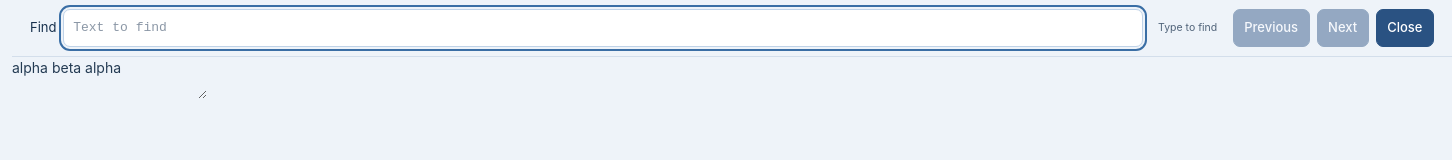
Test: typing updates counts without moving focus, and no matches disable navigation
Type "beta" into the search field labelled "Find" at (603, 28), box x1=64 y1=9 x2=1143 y2=47
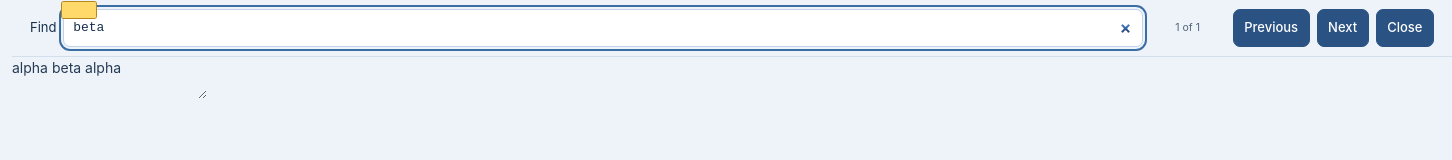
Expected: the message "1 of 1" is shown, x1=1175 y1=21 x2=1200 y2=34
Expected: the text "beta" is shown, x1=62 y1=2 x2=96 y2=18
Replace the text in the search field labelled "Find" with "missing" at (603, 28), box x1=64 y1=9 x2=1143 y2=47
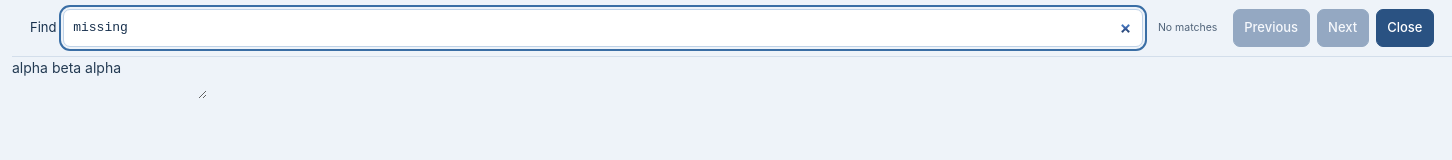
Expected: the message "No matches" is shown, x1=1158 y1=21 x2=1217 y2=34
Clear the search field labelled "Find" at (603, 28), box x1=64 y1=9 x2=1143 y2=47
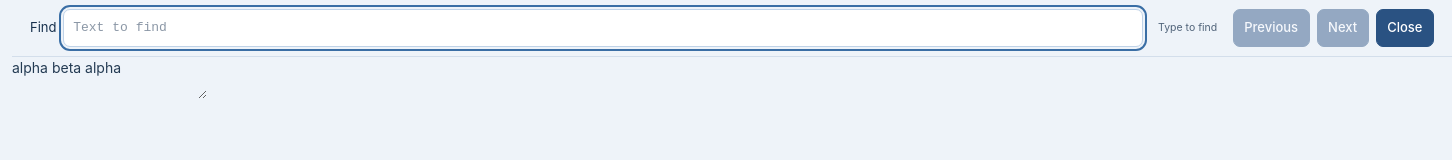
Expected: the message "Type to find" is shown, x1=1158 y1=21 x2=1217 y2=34
